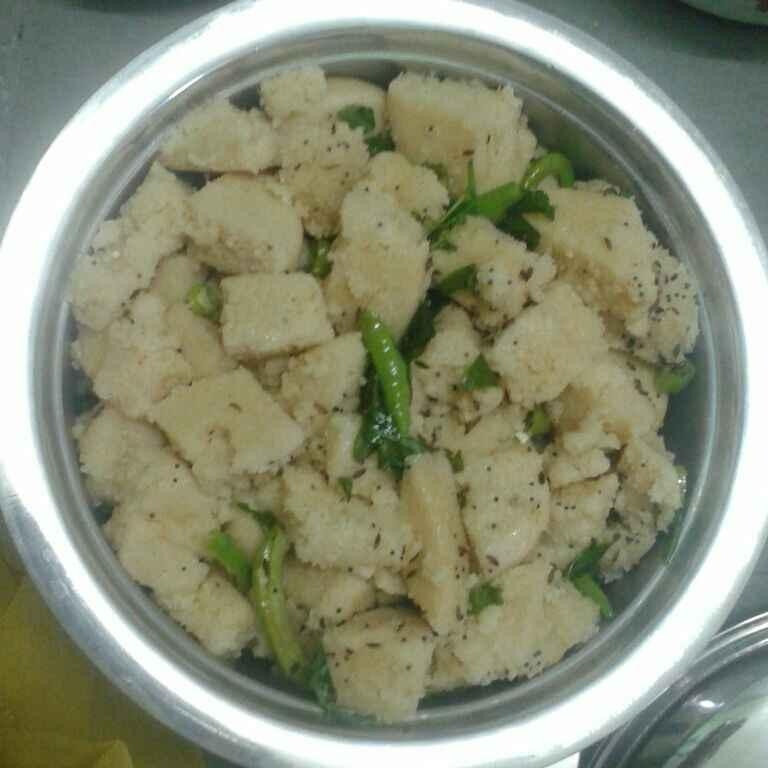dhokla: (116, 89, 672, 730)
